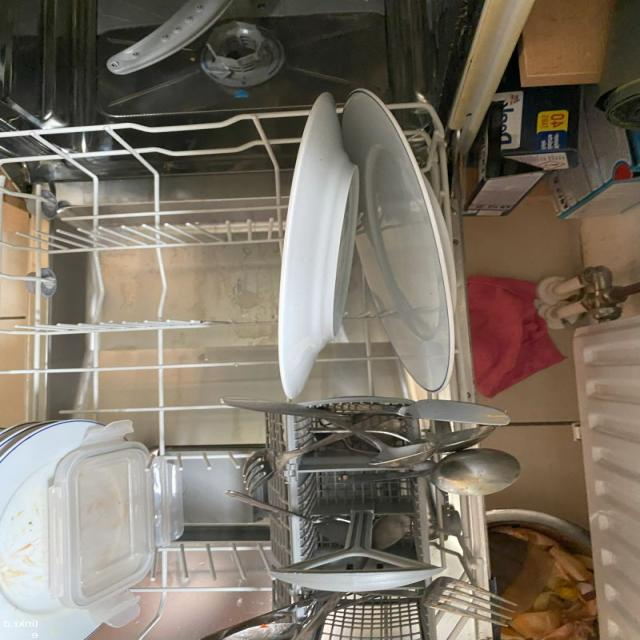clutery_bin: (250, 401, 475, 640)
empty_slot: (7, 136, 259, 392)
